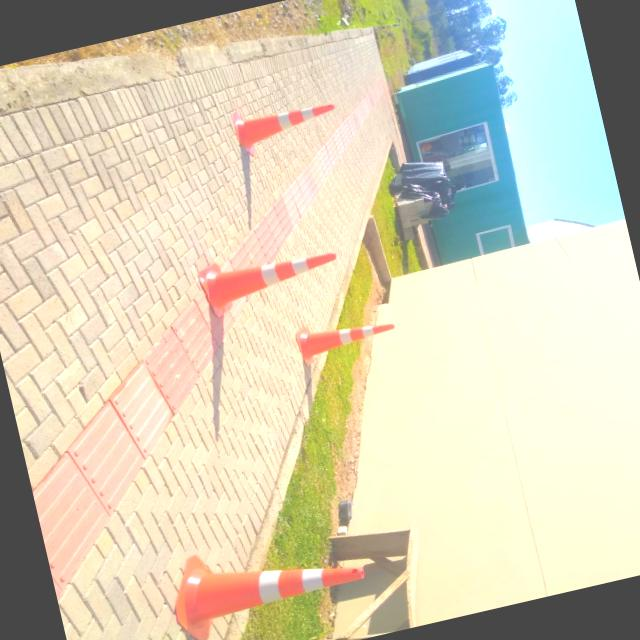cone: (156, 512, 381, 640), (196, 226, 356, 324), (222, 84, 348, 162), (294, 304, 406, 371)
